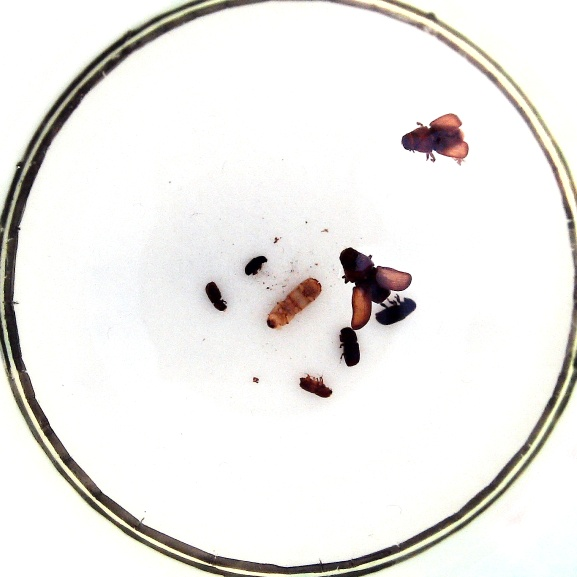acuminatus: (205, 282, 226, 311), (244, 255, 267, 275)
armandi: (375, 297, 416, 325)
boerner: (267, 278, 321, 329)
coleoptera: (299, 376, 332, 398)
leconte: (339, 247, 391, 303), (401, 126, 464, 154)
linnaeus: (339, 327, 359, 367)
